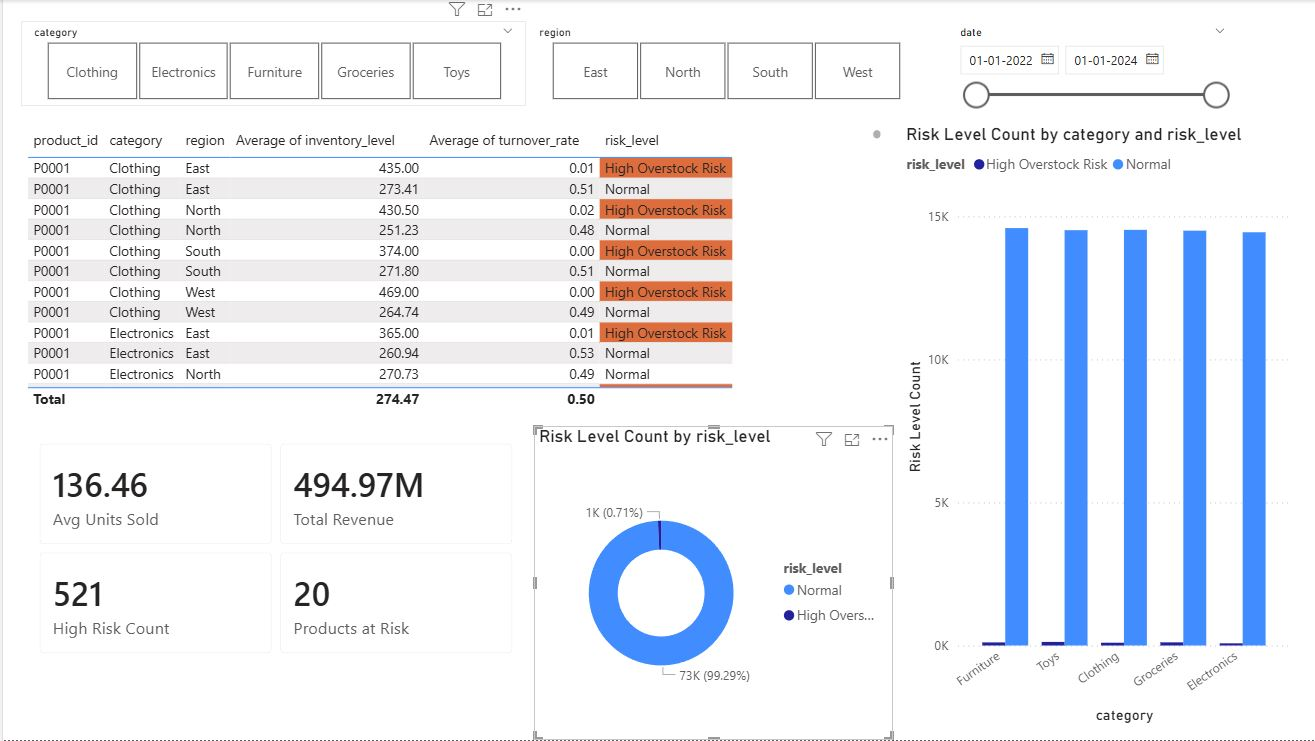

The page's visual inventory and layout, read from the dashboard file:
{"tool":"powerbi","page":{"name":"Page 3","canvas":[1280,720],"ordinal":2},"visuals":[{"type":"donutChart","fields":{"Y":["retail_db inventory_risk_metrics.Risk Level Count"],"Category":["retail_db inventory_risk_metrics.risk_level"]},"box":[516.7,414,349.4,306],"z":0},{"type":"slicer","fields":{"Values":["retail_db sales_transactions.category"]},"box":[17.5,20.4,491.2,82.7],"z":1},{"type":"slicer","fields":{"Values":["retail_db sales_transactions.region"]},"box":[508.7,20.4,388.1,82.7],"z":2},{"type":"slicer","fields":{"Values":["retail_db sales_transactions.date"]},"box":[918.2,20.4,283,91.4],"z":3},{"type":"cardVisual","fields":{"Data":["retail_db sales_transactions.Avg Units Sold","retail_db sales_transactions.Total Revenue","retail_db inventory_risk_metrics.High Risk Count","retail_db inventory_risk_metrics.Products at Risk"]},"box":[18,414,494.4,238.2],"z":4},{"type":"tableEx","fields":{"Values":["retail_db inventory_risk_metrics.product_id","retail_db inventory_risk_metrics.category","retail_db inventory_risk_metrics.region","Avg(retail_db inventory_risk_metrics.inventory_level)","Avg(retail_db inventory_risk_metrics.turnover_rate)","retail_db inventory_risk_metrics.risk_level"]},"box":[18,120.7,840.6,280.6],"z":5},{"type":"clusteredColumnChart","fields":{"Category":["retail_db inventory_risk_metrics.category"],"Y":["retail_db inventory_risk_metrics.Risk Level Count"],"Series":["retail_db inventory_risk_metrics.risk_level"]},"box":[873.4,120.7,384.3,587.6],"z":6}]}

Visuals, with their boxes in screenshot pixels (x1, y1, x2, y2), scaled from the page's 1280x720 canvas onto the 1315x741 screenshot:
donutChart - retail_db inventory_risk_metrics.Risk Level Count x retail_db inventory_risk_metrics.risk_level: <bbox>531, 426, 890, 740</bbox>
slicer - retail_db sales_transactions.category: <bbox>18, 21, 523, 106</bbox>
slicer - retail_db sales_transactions.region: <bbox>523, 21, 921, 106</bbox>
slicer - retail_db sales_transactions.date: <bbox>943, 21, 1234, 115</bbox>
cardVisual - retail_db sales_transactions.Avg Units Sold x retail_db sales_transactions.Total Revenue: <bbox>18, 426, 526, 671</bbox>
tableEx - retail_db inventory_risk_metrics.product_id x retail_db inventory_risk_metrics.category: <bbox>18, 124, 882, 413</bbox>
clusteredColumnChart - retail_db inventory_risk_metrics.category x retail_db inventory_risk_metrics.Risk Level Count: <bbox>897, 124, 1292, 729</bbox>
